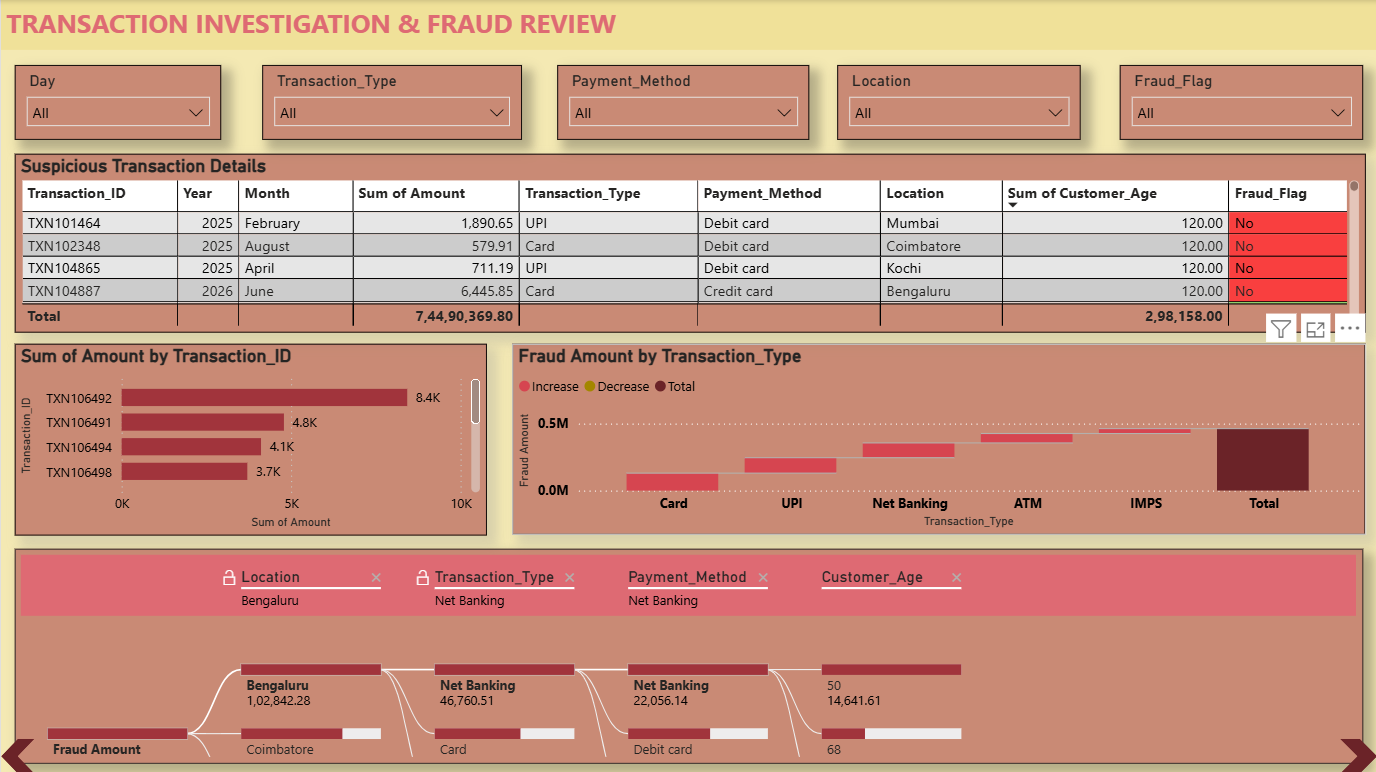

This screenshot's page, from the dashboard's own definition file:
{"tool":"powerbi","page":{"name":"Transaction Investigation","canvas":[1280,720],"ordinal":2},"visuals":[{"type":"slicer","fields":{"Values":["Fraud Data.Payment_Method"]},"box":[517.3,60.4,234.6,70],"z":0},{"type":"slicer","fields":{"Values":["Fraud Data.Fraud_Flag"]},"box":[1040.1,60.4,226.4,70],"z":1000},{"type":"slicer","fields":{"Values":["Fraud Data.Transaction_Type"]},"box":[242.9,60.4,241.5,70],"z":2000},{"type":"slicer","fields":{"Values":["Fraud Data.Transaction_Date.Variation.Date Hierarchy.Day"]},"box":[12.3,60.4,192.1,70],"z":3000},{"type":"slicer","fields":{"Values":["Fraud Data.Location"]},"box":[778,60.4,226.4,70],"z":4000},{"type":"tableEx","title":"Suspicious Transaction Details","fields":{"Values":["Fraud Data.Transaction_ID","Fraud Data.Transaction_Date.Variation.Date Hierarchy.Year","Fraud Data.Transaction_Date.Variation.Date Hierarchy.Month","Sum(Fraud Data.Amount)","Fraud Data.Transaction_Type","Fraud Data.Payment_Method","Fraud Data.Location","Sum(Fraud Data.Customer_Age)","Fraud Data.Fraud_Flag"]},"box":[12.3,142.7,1257,166],"z":5000},{"type":"barChart","fields":{"Category":["Fraud Data.Transaction_ID"],"Y":["Sum(Fraud Data.Amount)"]},"box":[12.3,319.7,439.1,178.4],"z":6000},{"type":"textbox","box":[0,0,1280.3,46.7],"z":7000},{"type":"waterfallChart","fields":{"Category":["Fraud Data.Transaction_Type"],"Y":["Fraud Data.Fraud Amount"]},"box":[475.5,319.7,793.8,177.8],"z":8000},{"type":"decompositionTreeVisual","fields":{"Analyze":["Fraud Data.Fraud Amount"],"ExplainBy":["Fraud Data.Location","Fraud Data.Transaction_Type","Fraud Data.Payment_Method","Fraud Data.Customer_Age"]},"box":[12.4,509.9,1254.1,199.8],"z":9000}]}

Visuals, with their boxes in screenshot pixels (x1, y1, x2, y2), scaled from the page's 1280x720 canvas onto the 1376x772 screenshot:
slicer - Fraud Data.Payment_Method: pyautogui.locateOnScreen(556, 65, 808, 140)
slicer - Fraud Data.Fraud_Flag: pyautogui.locateOnScreen(1118, 65, 1361, 140)
slicer - Fraud Data.Transaction_Type: pyautogui.locateOnScreen(261, 65, 521, 140)
slicer - Fraud Data.Transaction_Date.Variation.Date Hierarchy.Day: pyautogui.locateOnScreen(13, 65, 220, 140)
slicer - Fraud Data.Location: pyautogui.locateOnScreen(836, 65, 1080, 140)
"Suspicious Transaction Details" tableEx: pyautogui.locateOnScreen(13, 153, 1364, 331)
barChart - Fraud Data.Transaction_ID x Sum(Fraud Data.Amount): pyautogui.locateOnScreen(13, 343, 485, 534)
textbox: pyautogui.locateOnScreen(0, 0, 1375, 50)
waterfallChart - Fraud Data.Transaction_Type x Fraud Data.Fraud Amount: pyautogui.locateOnScreen(511, 343, 1364, 533)
decompositionTreeVisual - Fraud Data.Fraud Amount x Fraud Data.Location: pyautogui.locateOnScreen(13, 547, 1361, 761)
